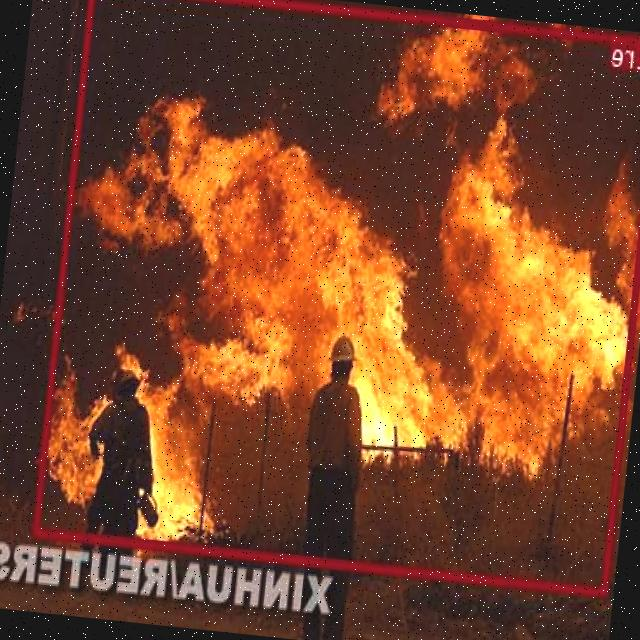fire: (34, 0, 640, 594)
